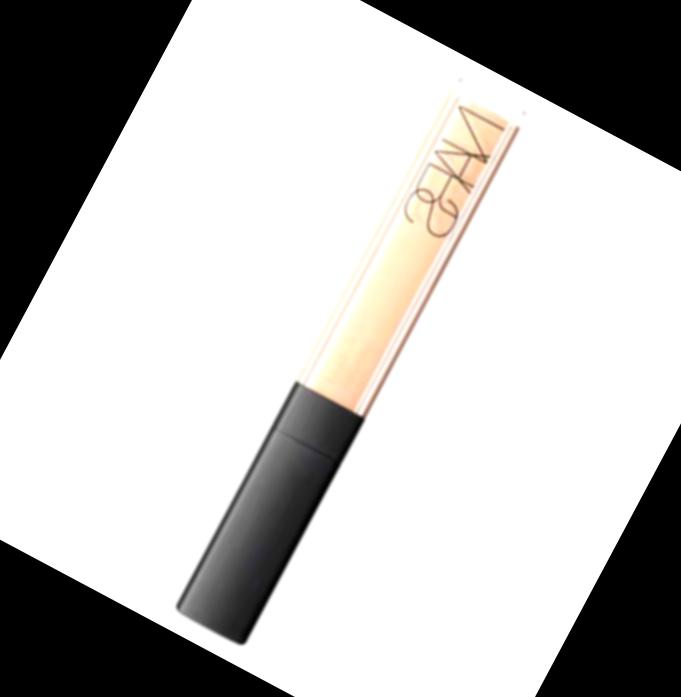cosmetic: (174, 72, 533, 648)
